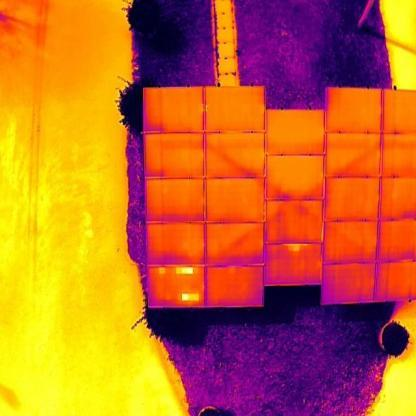anomaly: (279, 243, 310, 253), (179, 291, 200, 303), (173, 265, 194, 276), (156, 265, 168, 278)
